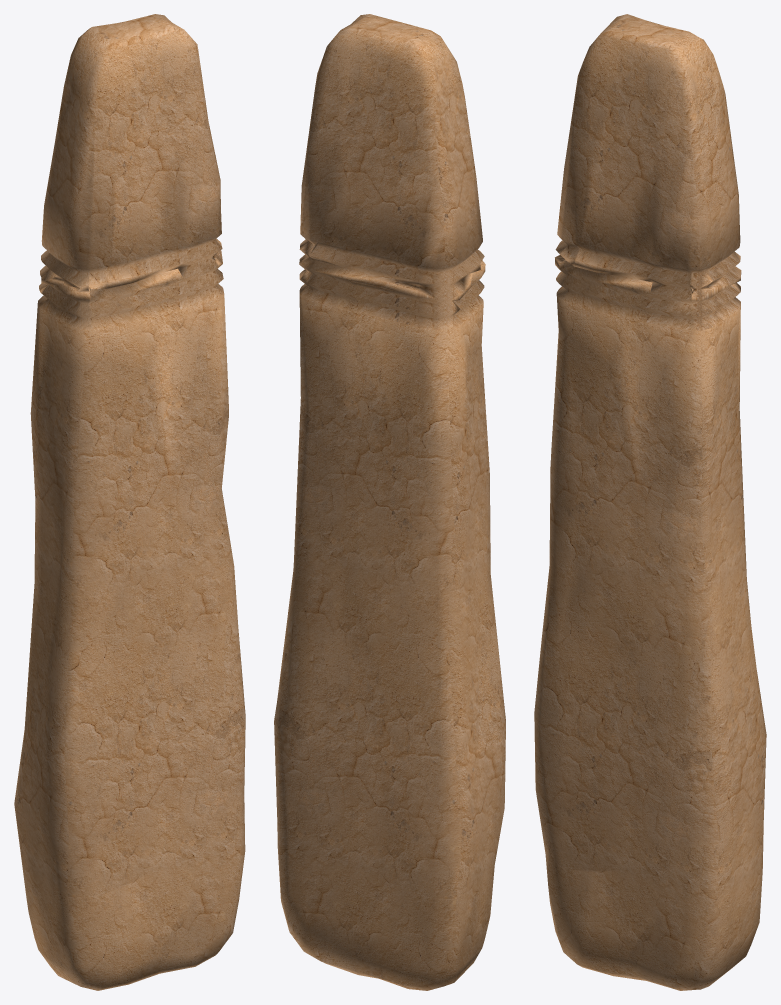
The model's file is monolith.glb.
The picture shows the model from 3 angles, left to right: view 1: azimuth 30°, elevation 25°; view 2: azimuth 150°, elevation 25°; view 3: azimuth 330°, elevation 25°; orthographic projection.
Parts seen in each view (by area): view 1: monolith; view 2: monolith; view 3: monolith.
Boxes of the visible parts, x1,y1,x2,y2 form: monolith: [14, 14, 245, 990]; monolith: [274, 14, 505, 990]; monolith: [534, 14, 766, 990].
Size of the model in its own units: 1.38 by 6.3 by 0.73.
1 material, 1 textured.
